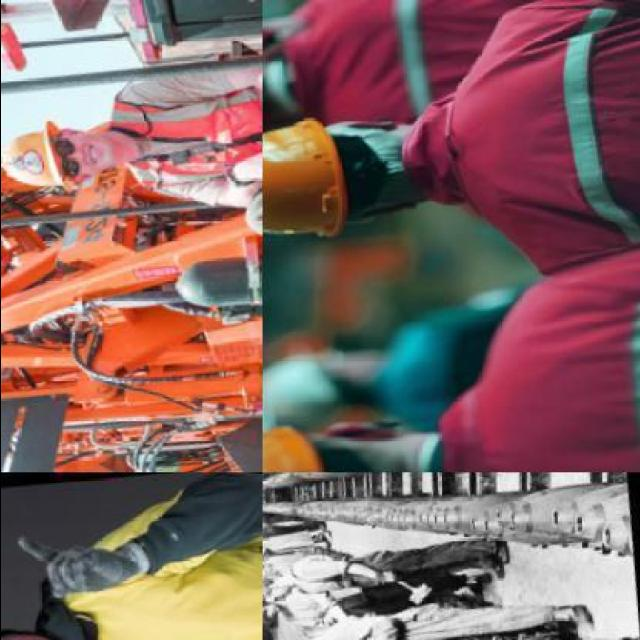helmet: (259, 106, 349, 256), (0, 106, 70, 203)
